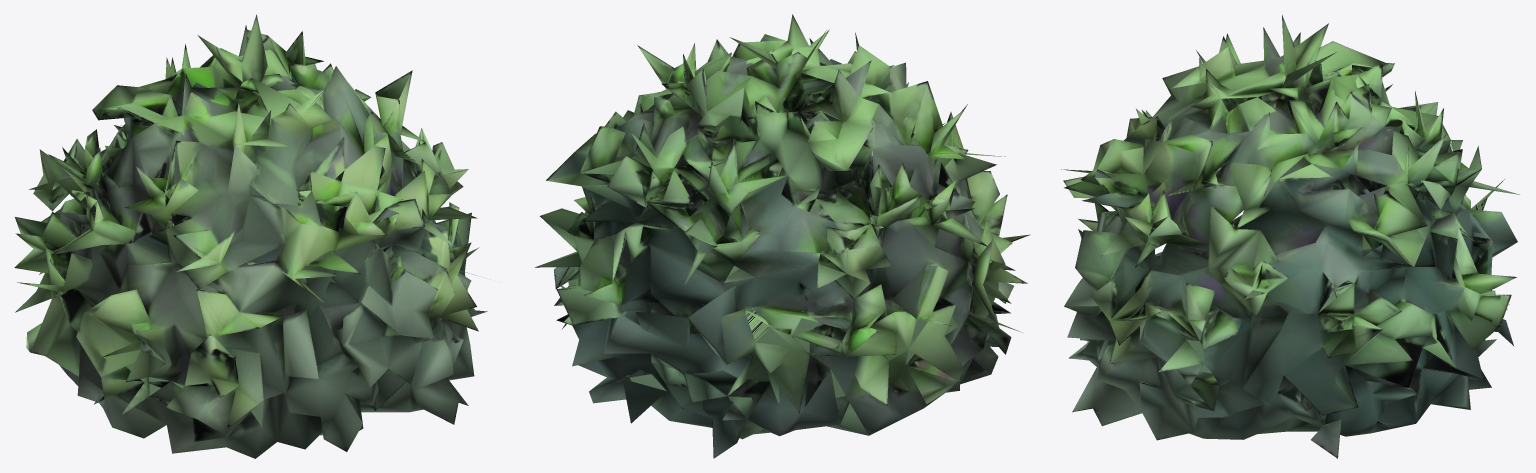
Rendered from Meshy_AI_Stylized_dense_bush__0511134440_texture.fbx.
3 views of the same model, side by side, from view 1: azimuth 30°, elevation 25°; view 2: azimuth 150°, elevation 25°; view 3: azimuth 270°, elevation 25° (orthographic). The views are drawn at different scales.
Visible parts, largest first — view 1: Mesh_0; view 2: Mesh_0; view 3: Mesh_0.
Part boxes in pixels (bbox=[...]): Mesh_0: bbox=[14, 14, 487, 458]; Mesh_0: bbox=[535, 14, 1030, 458]; Mesh_0: bbox=[1061, 15, 1519, 458].
Bounding box in the file's own units: 200 × 156 × 195.
Materials: 1 (1 with a texture image).
